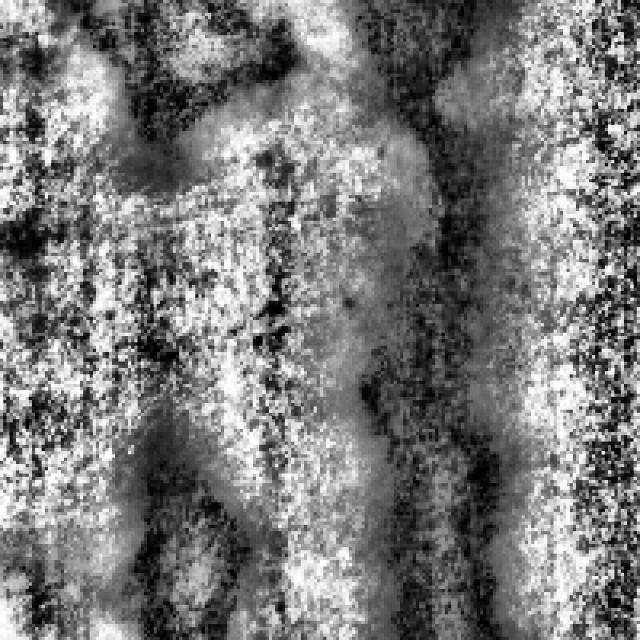Scratches: (349, 141, 525, 634), (51, 0, 297, 166), (90, 422, 250, 637), (333, 0, 496, 182)
